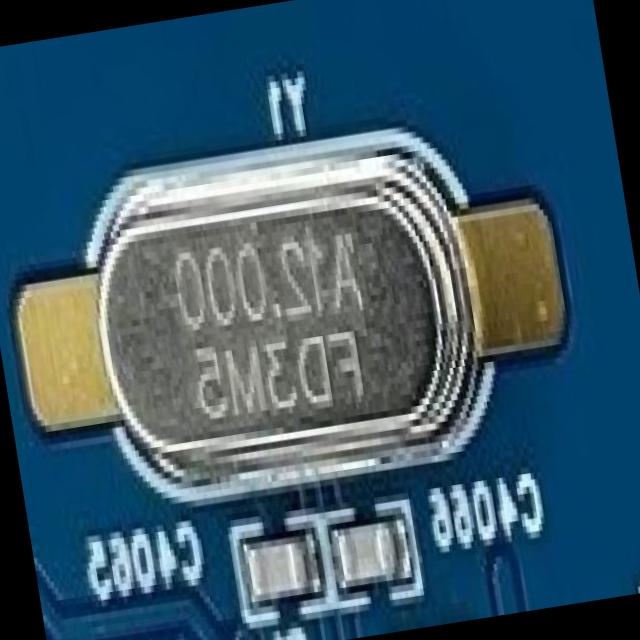capacitor: (324, 514, 408, 590), (243, 531, 316, 603)
